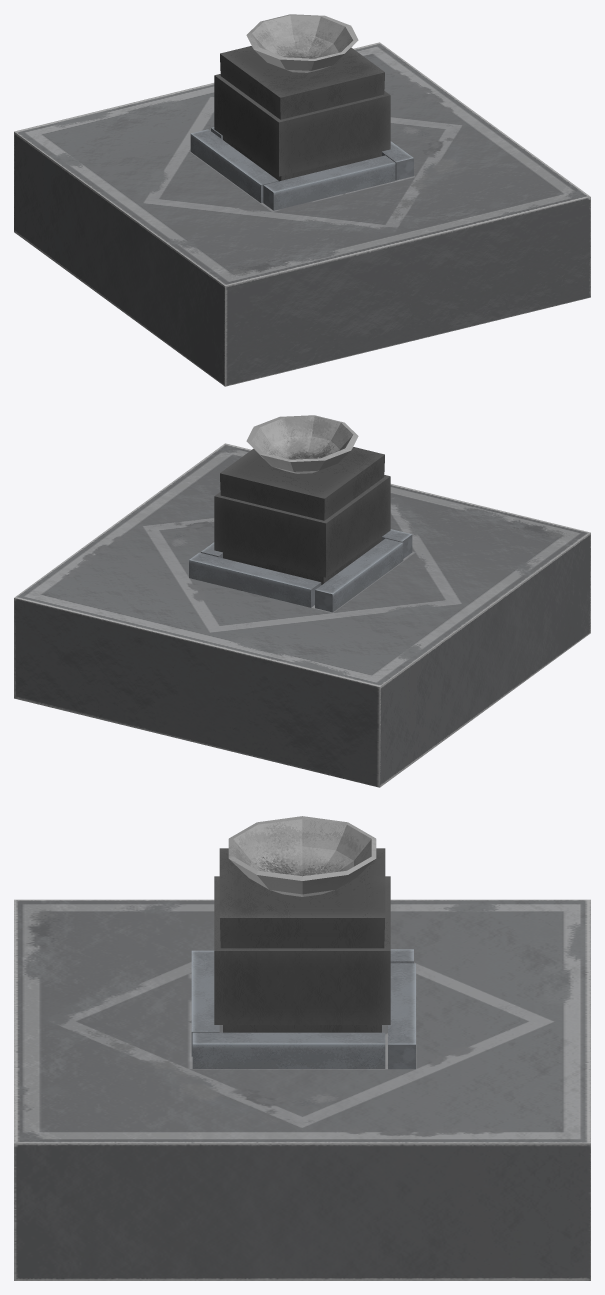
The model's file is Doragon_switch.fbx.
3 views of the same model, one above another, from view 1: azimuth 30°, elevation 25°; view 2: azimuth 150°, elevation 25°; view 3: azimuth 270°, elevation 25° (orthographic). The views are drawn at different scales.
Parts seen in each view (by area): view 1: floor_model:pCube1, pCube7, pSphere2, pCube9, pCube2, pCube8; view 2: floor_model:pCube1, pCube7, pSphere2, pCube10, pCube2; view 3: floor_model:pCube1, pCube7, pSphere2, pCube8, pCube10, pCube9.
Part boxes in pixels (x1,y1,x2,y2): floor_model:pCube1: [14, 42, 590, 386]; pCube7: [214, 46, 390, 181]; pSphere2: [246, 14, 358, 72]; pCube9: [263, 155, 395, 210]; pCube2: [190, 129, 278, 202]; pCube8: [382, 141, 413, 180]; floor_model:pCube1: [14, 443, 590, 787]; pCube7: [214, 447, 390, 584]; pSphere2: [246, 415, 358, 473]; pCube10: [189, 552, 321, 607]; pCube2: [315, 538, 403, 612]; floor_model:pCube1: [14, 899, 590, 1280]; pCube7: [214, 848, 390, 1032]; pSphere2: [228, 816, 376, 896]; pCube8: [192, 1032, 385, 1068]; pCube10: [388, 963, 415, 1069]; pCube9: [191, 950, 219, 1056].
Size of the model in its own units: 97.98 by 58.33 by 97.98.
